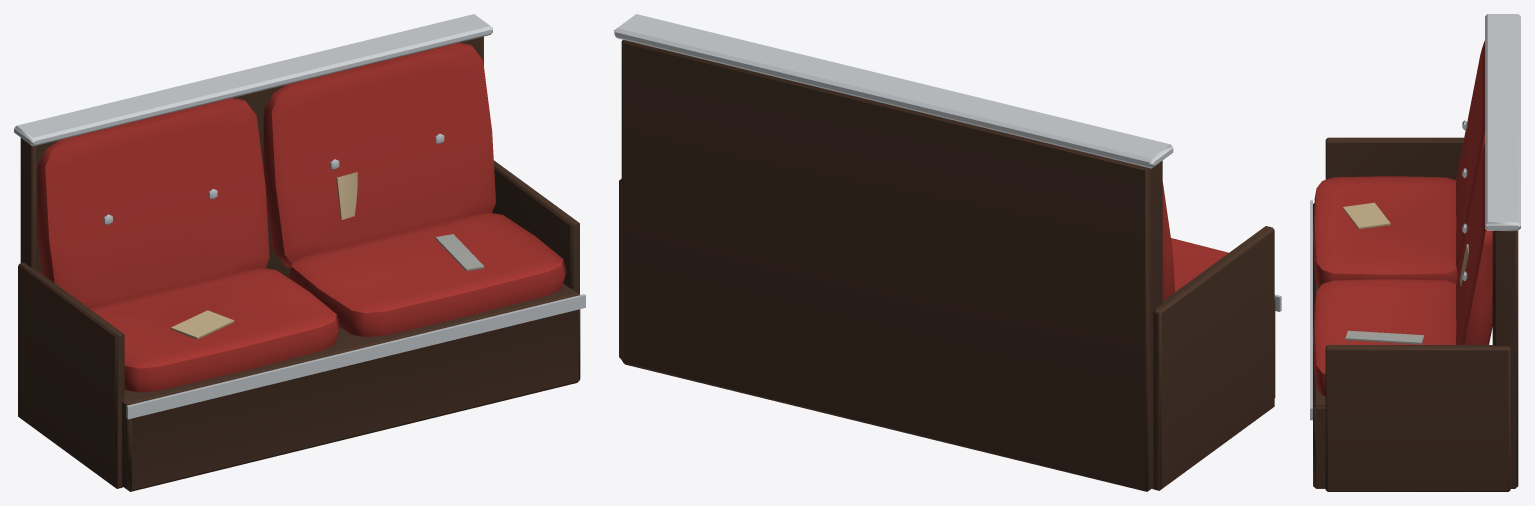
File: booth_diner.glb
The picture shows the model from 3 angles, left to right: view 1: azimuth 30°, elevation 25°; view 2: azimuth 150°, elevation 25°; view 3: azimuth 270°, elevation 25°; orthographic projection. The views are drawn at different scales.
Parts seen in each view (by area): view 1: booth_diner; view 2: booth_diner; view 3: booth_diner.
Boxes of the visible parts, x1=… form: booth_diner: x1=14, y1=14, x2=585, y2=491; booth_diner: x1=614, y1=14, x2=1281, y2=491; booth_diner: x1=1310, y1=14, x2=1520, y2=491.
Size of the model in its own units: 1.95 by 1.16 by 0.821.
